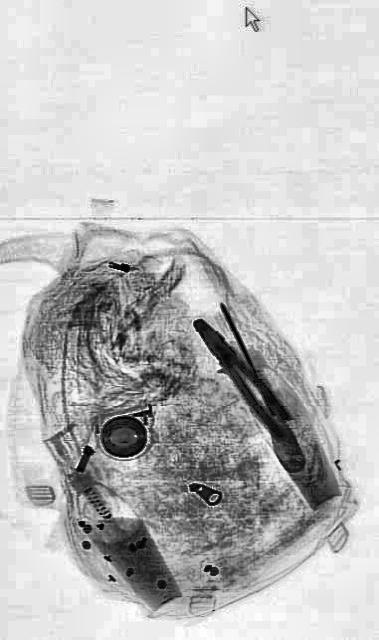Pliers: (188, 304, 292, 442)
